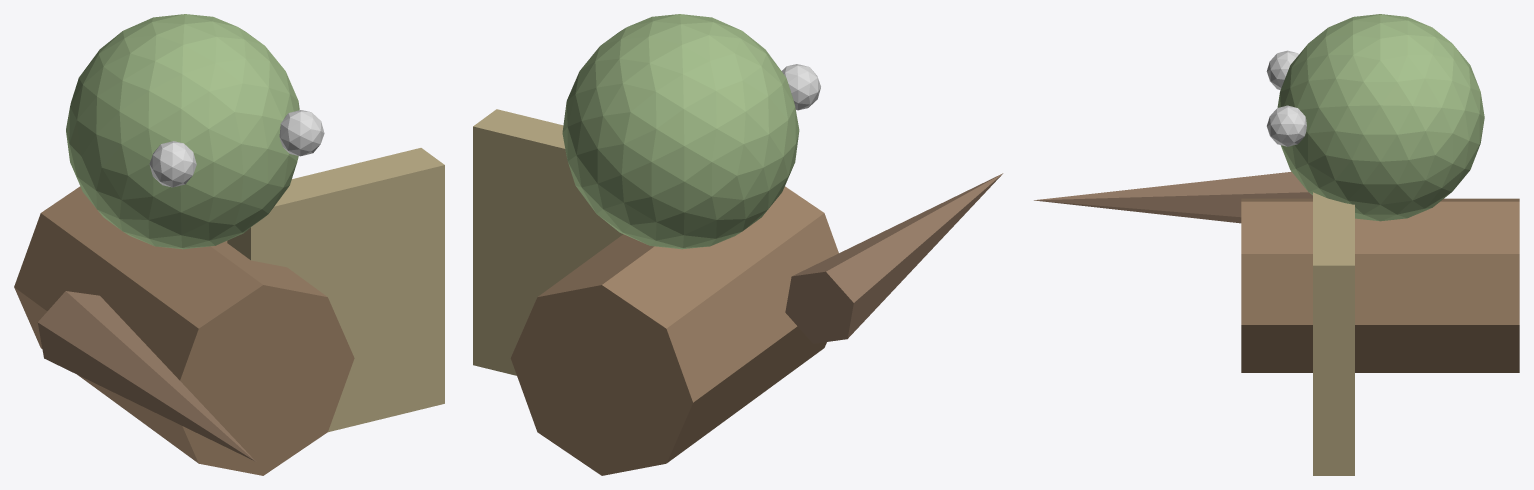
The model's file is twig_goblin.glb.
3 views of the same model, side by side, from view 1: azimuth 30°, elevation 25°; view 2: azimuth 150°, elevation 25°; view 3: azimuth 270°, elevation 25° (orthographic). The views are drawn at different scales.
Visible parts, largest first — view 1: body, head, shield, spear, eye-028, eye028; view 2: body, head, shield, spear, eye-028; view 3: body, head, shield, spear, eye028, eye-028.
Boxes of the visible parts, left/top/right/bottom form: body: left=14, top=186, right=354, bottom=475; head: left=66, top=14, right=299, bottom=249; shield: left=227, top=148, right=444, bottom=432; spear: left=37, top=291, right=255, bottom=461; eye-028: left=149, top=141, right=196, bottom=187; eye028: left=279, top=110, right=324, bottom=156; body: left=510, top=186, right=838, bottom=475; head: left=562, top=14, right=799, bottom=249; shield: left=473, top=109, right=622, bottom=375; spear: left=785, top=173, right=1003, bottom=343; eye-028: left=782, top=64, right=820, bottom=110; body: left=1241, top=198, right=1519, bottom=372; head: left=1277, top=14, right=1484, bottom=221; shield: left=1313, top=192, right=1354, bottom=475; spear: left=1034, top=171, right=1312, bottom=223; eye028: left=1266, top=105, right=1306, bottom=146; eye-028: left=1266, top=50, right=1298, bottom=89.
Bounding box in the file's own units: 1.68 × 1.7 × 2.1.
